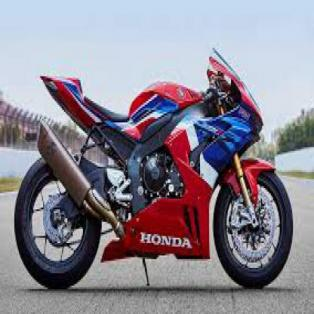Motocicleta: (12, 55, 296, 297)
